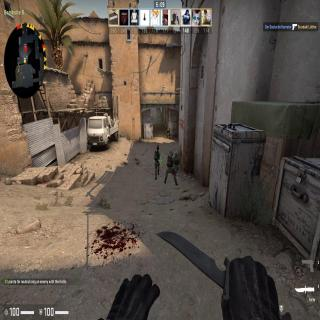CT-Body: (165, 147, 176, 180), (154, 144, 160, 176), (173, 150, 180, 173), (167, 127, 170, 138)
CT-Head: (169, 149, 173, 155), (175, 151, 179, 156), (156, 144, 159, 150), (168, 127, 169, 129)
